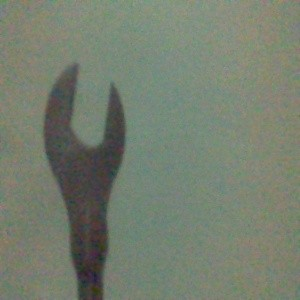spanner: (42, 62, 127, 300)
